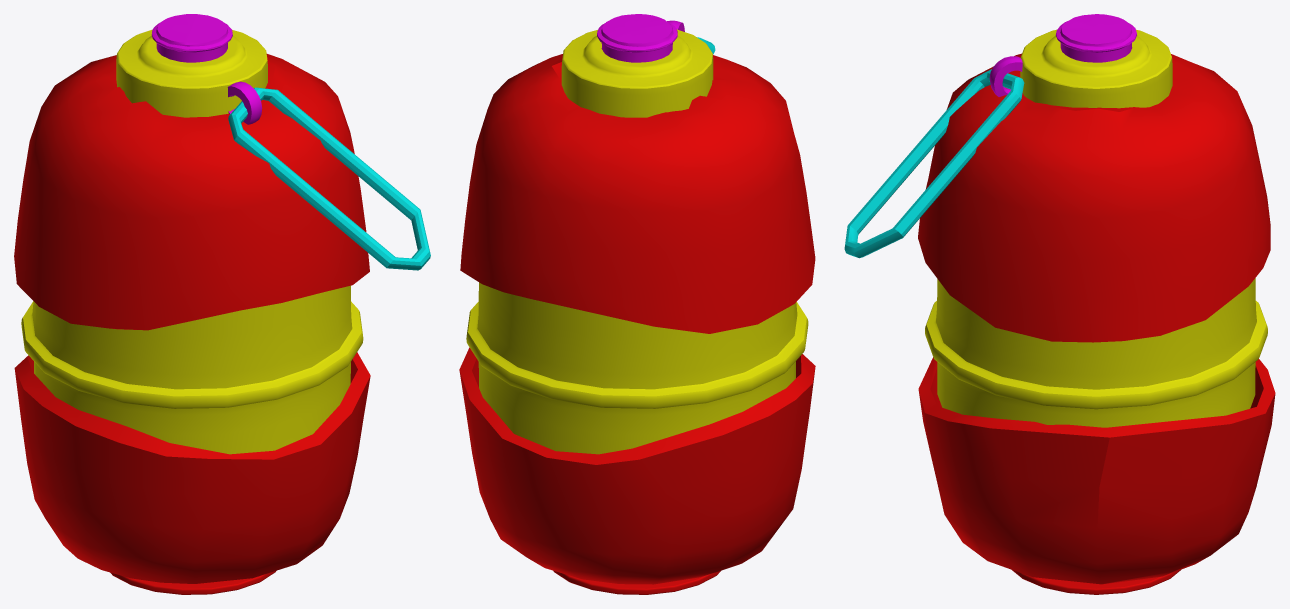
File: Grenade.fbx
The picture shows the model from 3 angles, left to right: view 1: azimuth 30°, elevation 25°; view 2: azimuth 150°, elevation 25°; view 3: azimuth 270°, elevation 25°; orthographic projection.
Visible parts, largest first — view 1: Grenade; view 2: Grenade; view 3: Grenade.
Part boxes in pixels (box(x1,y1,x2,y2)): Grenade: box(14, 14, 430, 594); Grenade: box(459, 14, 815, 594); Grenade: box(844, 14, 1275, 594).
Bounding box in the file's own units: 14.02 × 22.85 × 16.89.
